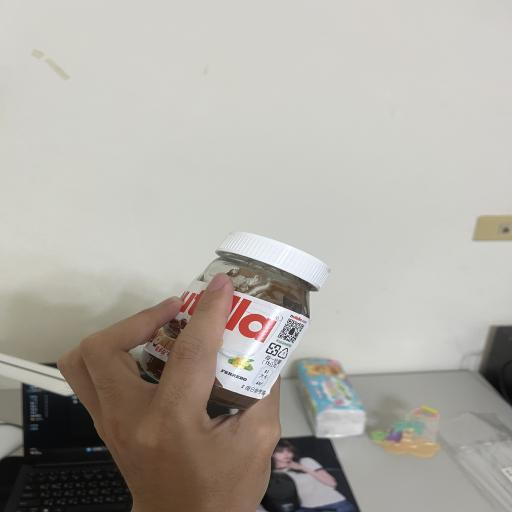chocolate_jar: (139, 232, 330, 409)
